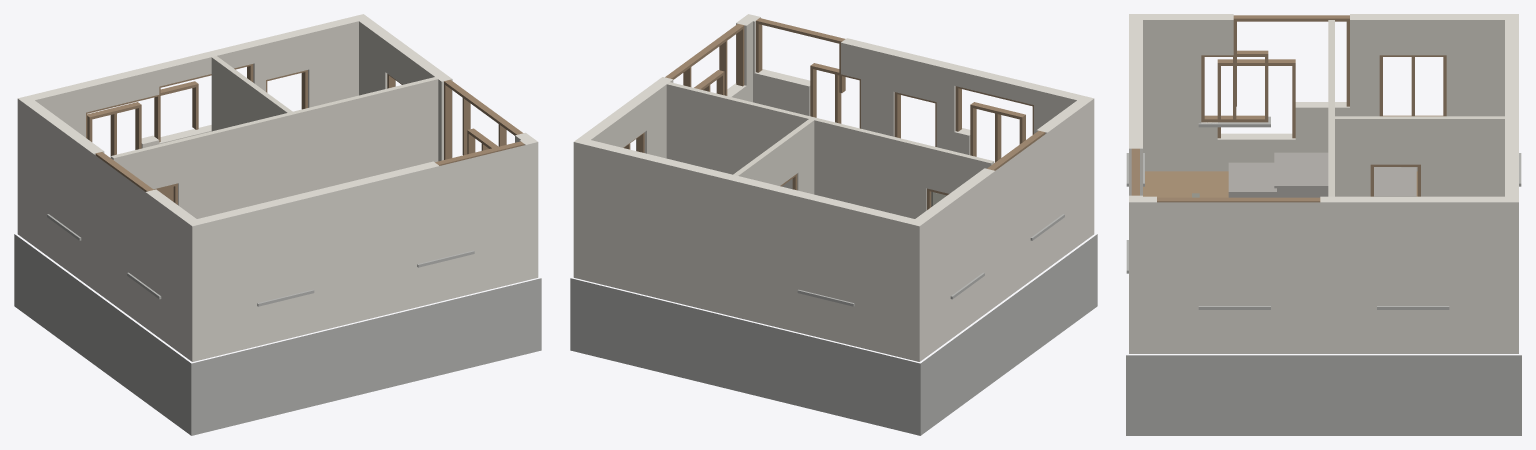
The model's file is ruin_small.glb.
The picture shows the model from 3 angles, left to right: view 1: azimuth 30°, elevation 25°; view 2: azimuth 150°, elevation 25°; view 3: azimuth 270°, elevation 25°; orthographic projection. The views are drawn at different scales.
Parts seen in each view (by area): view 1: hi, far; view 2: hi, far; view 3: hi, far.
Boxes of the visible parts, x1,y1,x2,y2 form: hi: (14, 14, 541, 435); far: (17, 100, 538, 361); hi: (570, 14, 1097, 435); far: (573, 99, 1094, 361); hi: (1126, 14, 1521, 435); far: (1129, 202, 1518, 353).
Bounding box in the file's own units: 8.1 × 4.6 × 7.1.
